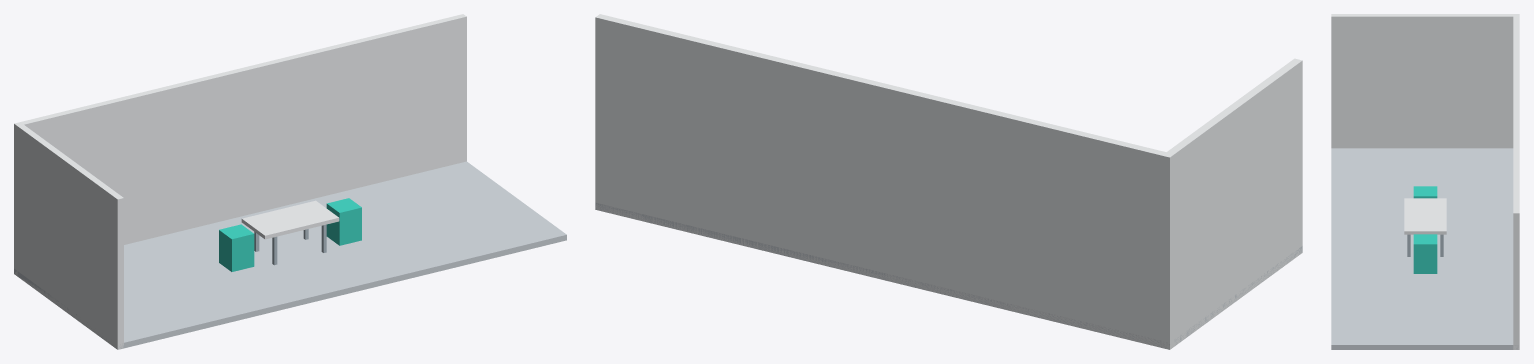
3 views of the same model, side by side, from view 1: azimuth 30°, elevation 25°; view 2: azimuth 150°, elevation 25°; view 3: azimuth 270°, elevation 25° (orthographic). The views are drawn at different scales.
Parts seen in each view (by area): view 1: Exhibition Booth Concept; view 2: Exhibition Booth Concept; view 3: Exhibition Booth Concept.
Boxes of the visible parts, x1=… form: Exhibition Booth Concept: x1=14, y1=14, x2=566, y2=349; Exhibition Booth Concept: x1=595, y1=14, x2=1302, y2=349; Exhibition Booth Concept: x1=1331, y1=14, x2=1519, y2=349.
Size of the model in its own units: 10 by 3.2 by 4.
